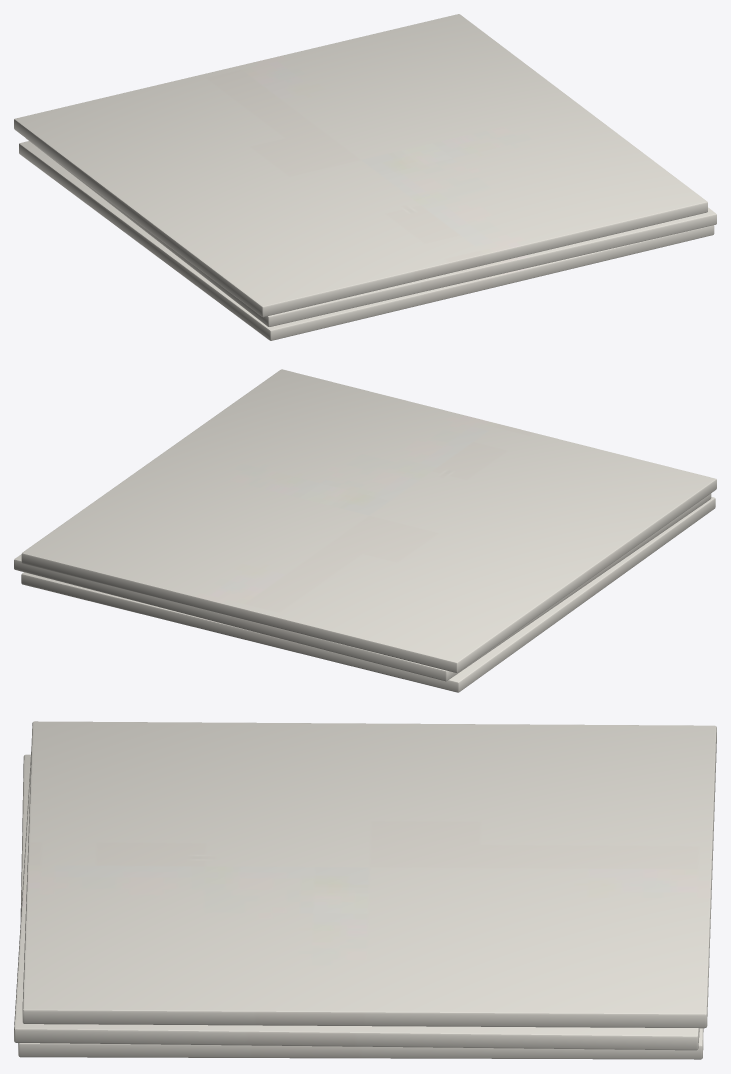
File: REV-FOR-003_lod1.glb
3 renders of one model, top to bottom at view 1: azimuth 30°, elevation 25°; view 2: azimuth 150°, elevation 25°; view 3: azimuth 270°, elevation 25°, orthographic. The views are drawn at different scales.
Visible parts, largest first — view 1: REV-FOR-003_placa2, REV-FOR-003_placa0, REV-FOR-003_placa1; view 2: REV-FOR-003_placa2, REV-FOR-003_placa0, REV-FOR-003_placa1; view 3: REV-FOR-003_placa2, REV-FOR-003_placa1, REV-FOR-003_placa0.
Boxes of the visible parts, x1,y1,x2,y2 form: REV-FOR-003_placa2: (14,14,707,316); REV-FOR-003_placa0: (19,141,714,340); REV-FOR-003_placa1: (26,138,716,326); REV-FOR-003_placa2: (21,369,716,672); REV-FOR-003_placa0: (21,497,715,692); REV-FOR-003_placa1: (14,493,711,681); REV-FOR-003_placa2: (22,721,716,1028); REV-FOR-003_placa1: (14,746,699,1050); REV-FOR-003_placa0: (18,754,703,1059).
Bounding box in the file's own units: 0.6493 × 0.0454 × 0.6417.
Materials: 1 (1 with a texture image).
